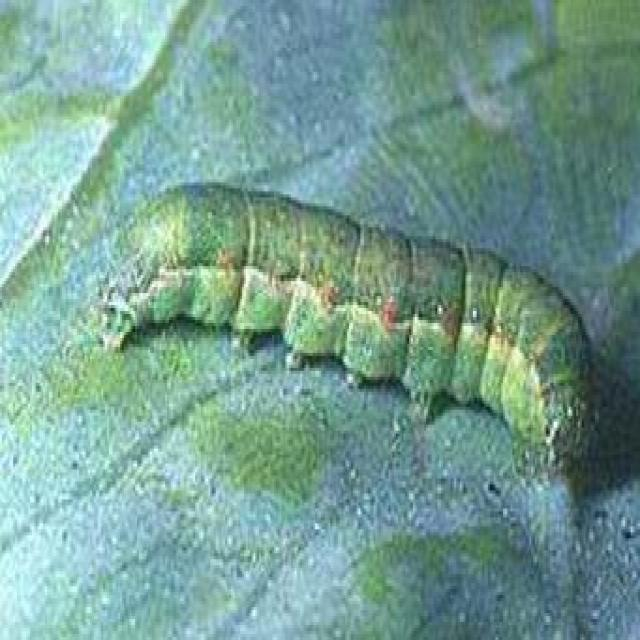BeetArmyWorm-Larva-: (99, 169, 602, 479)
